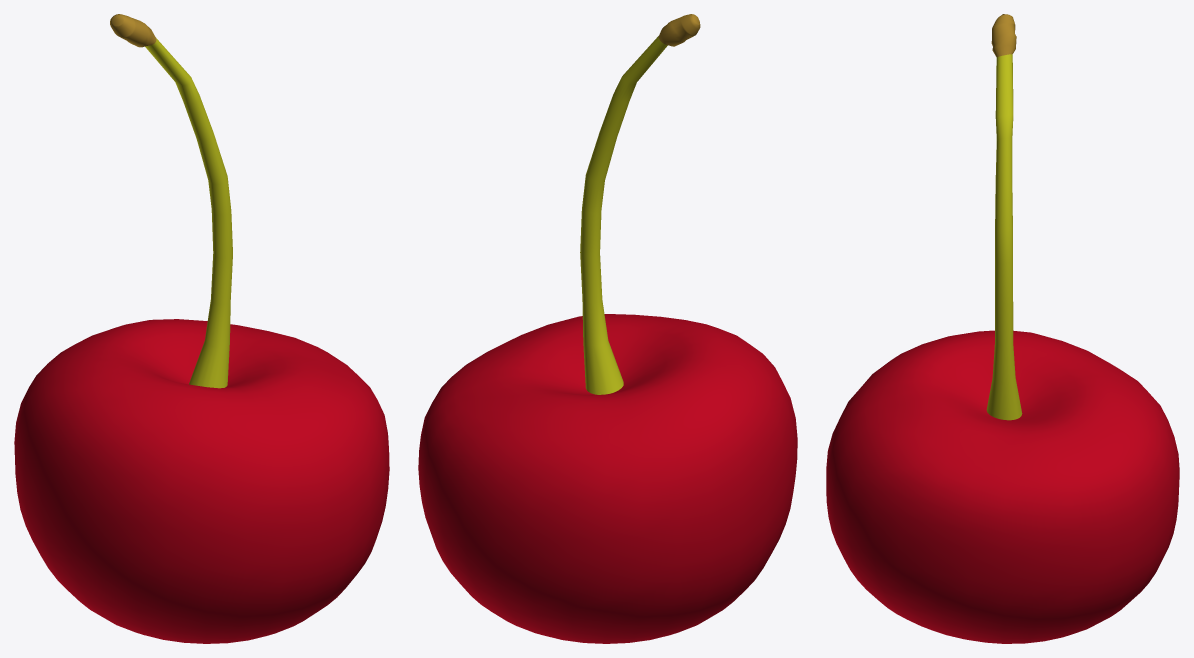
The model's file is cherry-0.glb.
3 renders of one model, left to right at view 1: azimuth 30°, elevation 25°; view 2: azimuth 150°, elevation 25°; view 3: azimuth 270°, elevation 25°, orthographic. The views are drawn at different scales.
Visible parts, largest first — view 1: Object_2, Object_3, Object_4; view 2: Object_2, Object_3, Object_4; view 3: Object_2, Object_3, Object_4.
Boxes of the visible parts, x1,y1,x2,y2 form: Object_2: [14, 319, 389, 643]; Object_3: [145, 38, 232, 388]; Object_4: [110, 14, 156, 47]; Object_2: [418, 314, 797, 643]; Object_3: [580, 36, 667, 394]; Object_4: [658, 14, 700, 46]; Object_2: [826, 330, 1179, 643]; Object_3: [986, 54, 1022, 420]; Object_4: [991, 14, 1016, 57].
Bounding box in the file's own units: 1.85 × 3.45 × 1.94.
